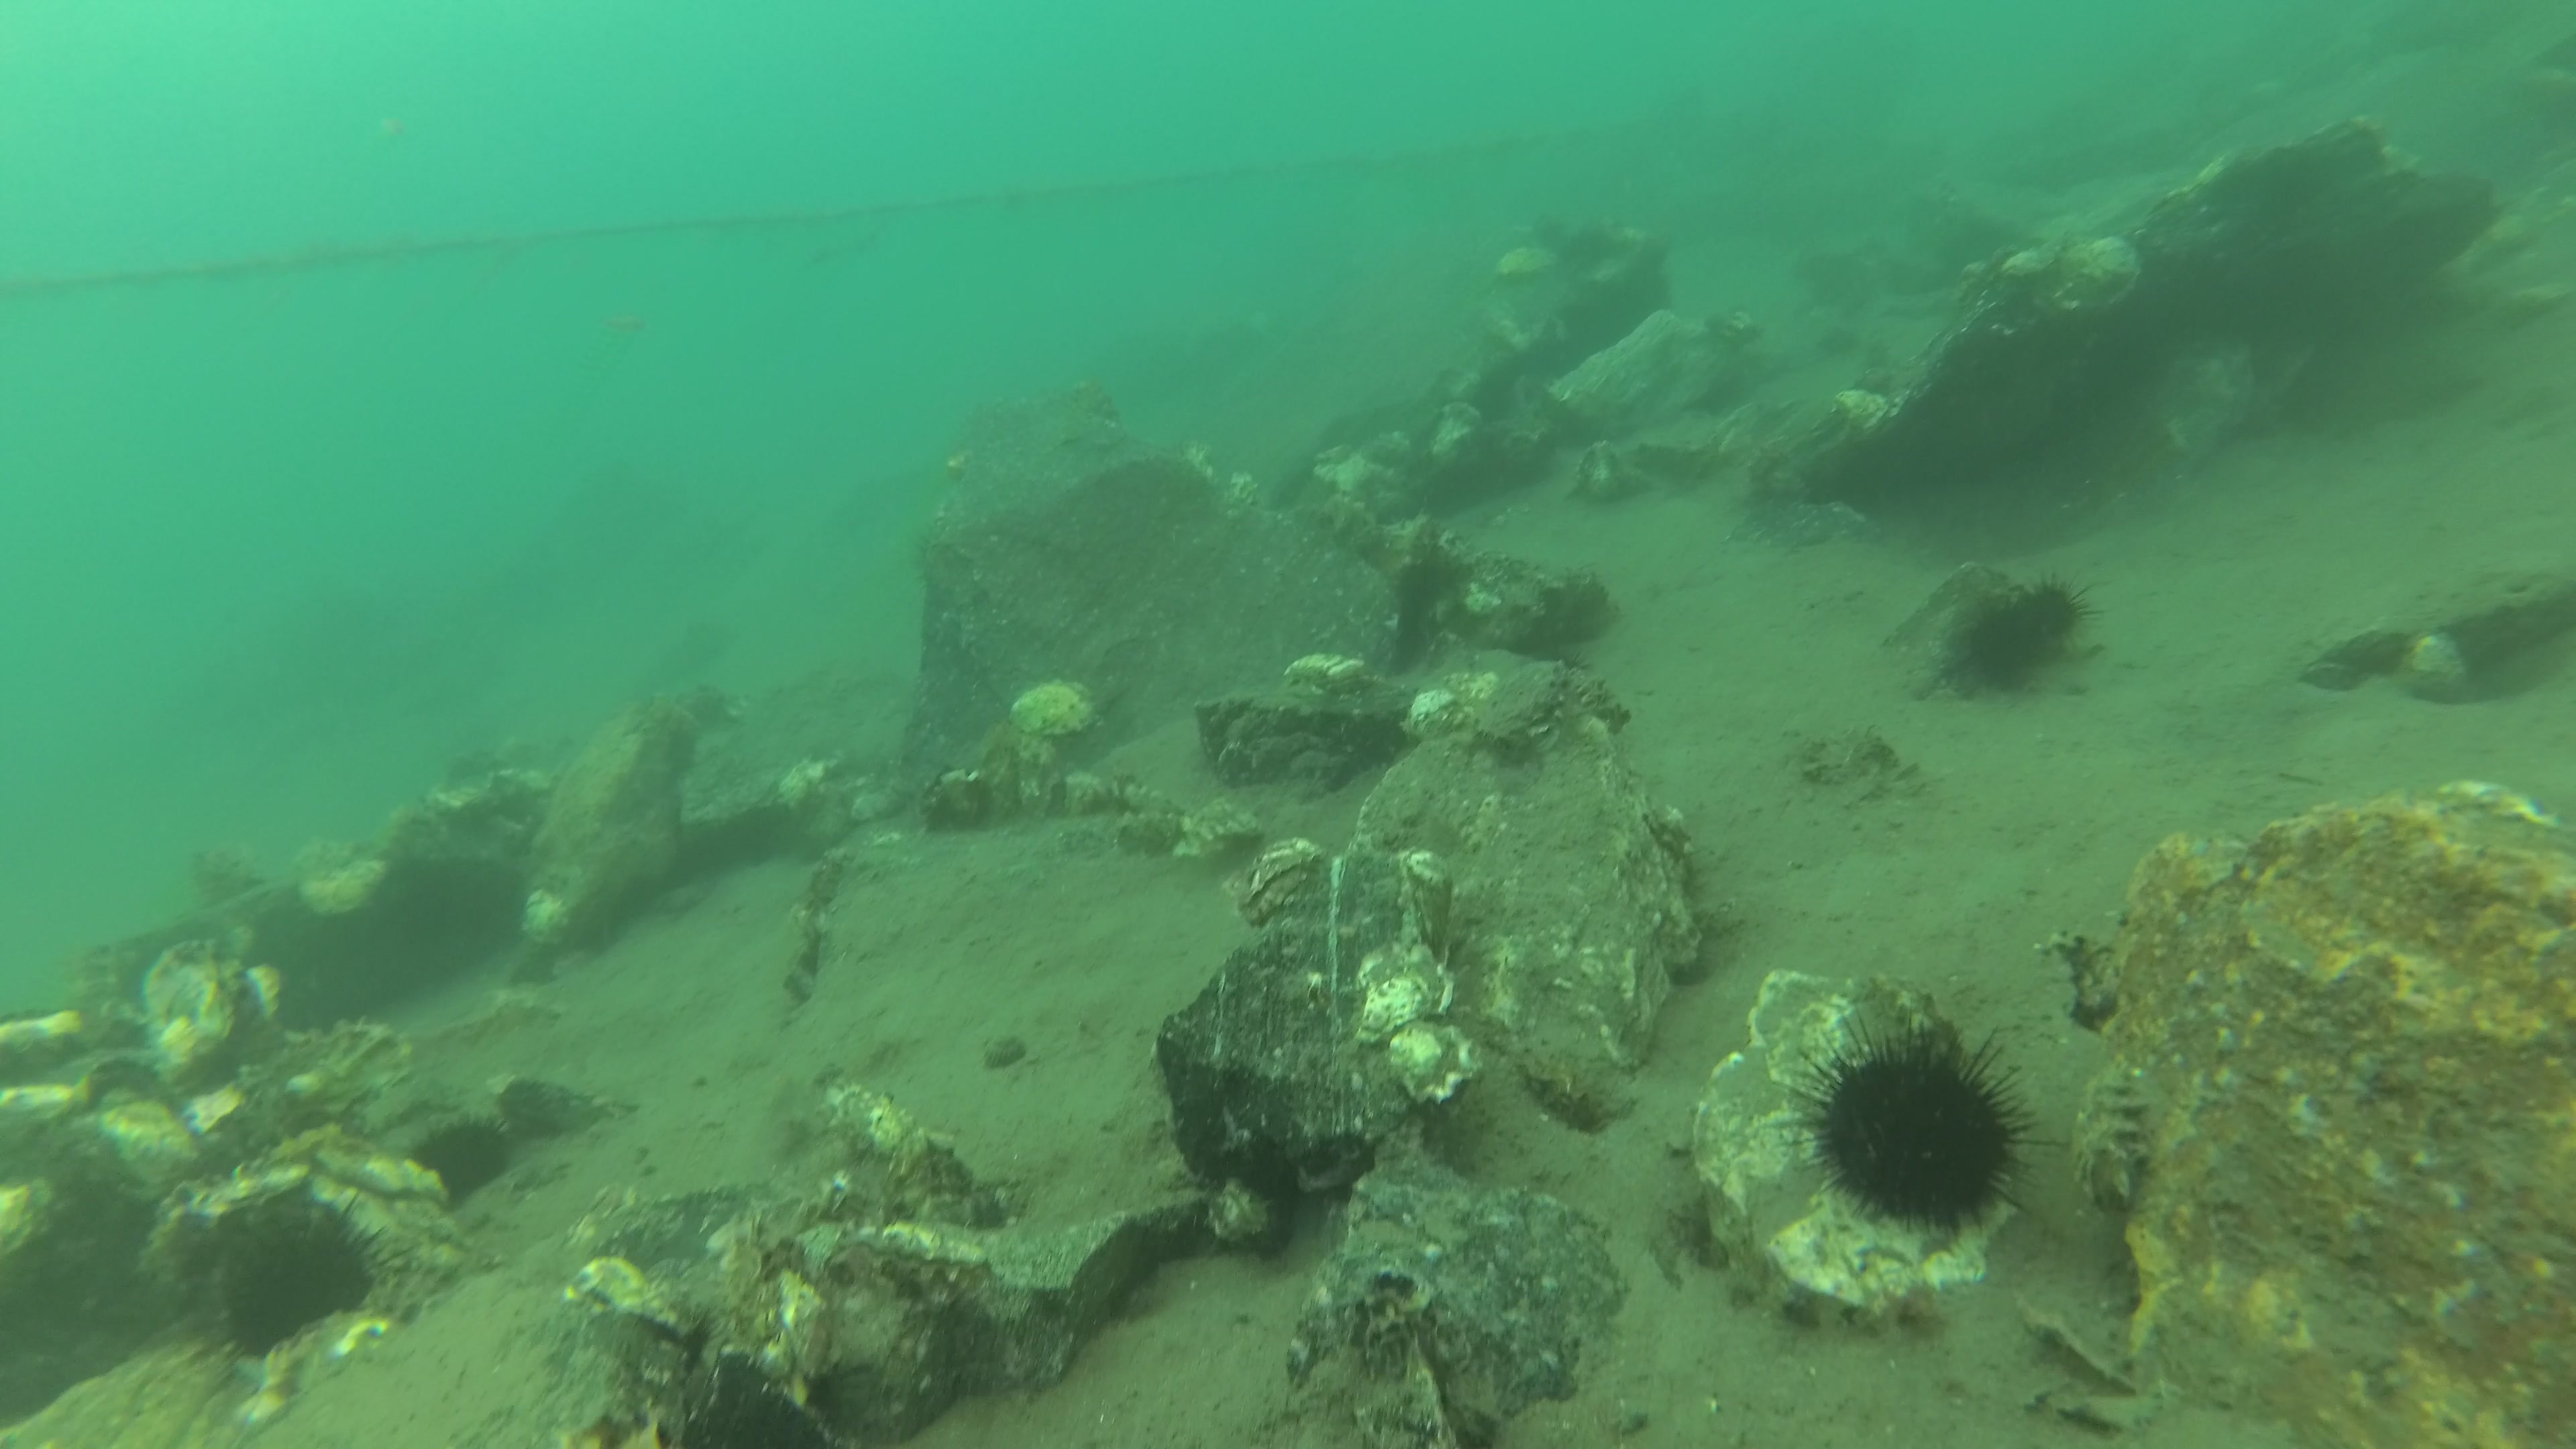echinus: (1778, 1003, 2066, 1246), (184, 1187, 419, 1376), (414, 1111, 513, 1194), (1960, 591, 2042, 690), (2019, 563, 2109, 651)
